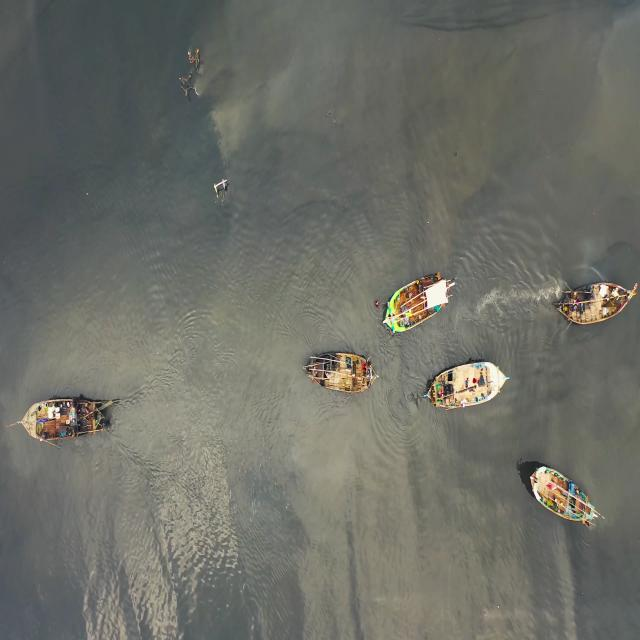ship: (10, 392, 116, 442), (426, 358, 513, 416), (529, 465, 602, 531), (555, 276, 637, 334), (382, 269, 454, 334), (305, 348, 377, 396)
